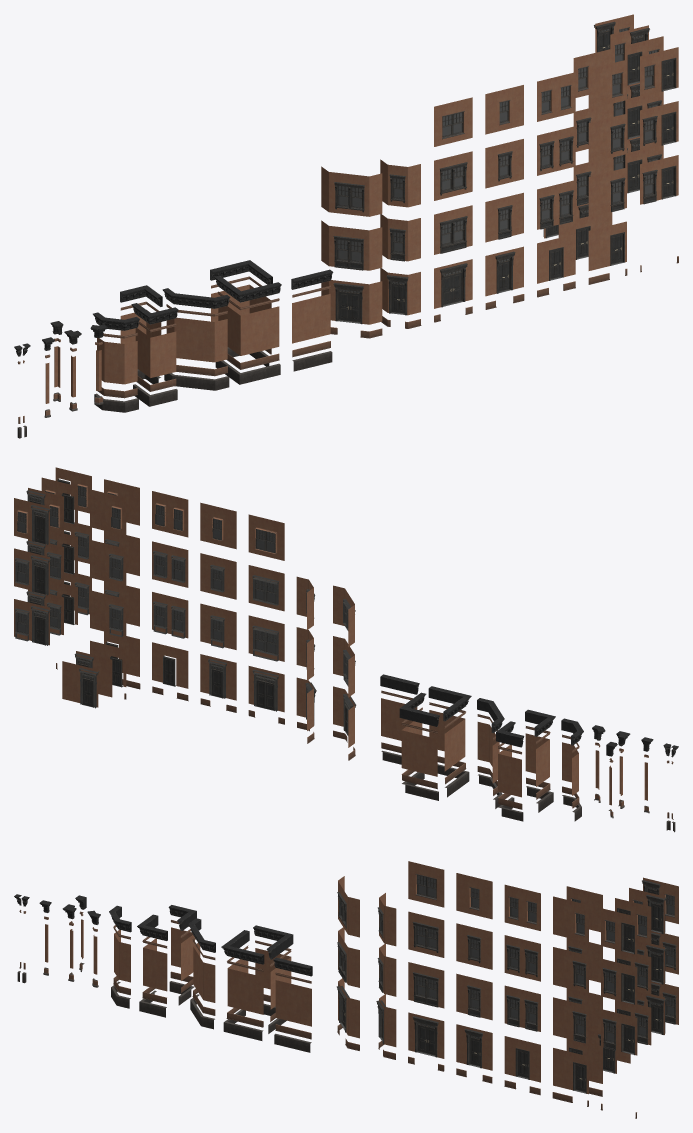
File: modular-urban-apartments-facade.glb
3 renders of one model, top to bottom at view 1: azimuth 30°, elevation 25°; view 2: azimuth 150°, elevation 25°; view 3: azimuth 330°, elevation 25°, orthographic. The views are drawn at different scales.
Visible parts, largest first — view 1: wall_standard_corner_large_01, wall_standard_angled_large_01, wall_window_angled_large_02, wall_window_angled_large_01, wall_standard_corner_small_01, wall_standard_standard_01, wall_standard_angled_small_01, wall_window_offset_small_05, wall_window_centered_small_03, wall_window_centered_small_02, wall_door_angled_large_01, wall_window_angled_small_02 (+38 smaller); view 2: wall_standard_corner_large_02, wall_standard_corner_large_01, wall_window_offset_small_06, wall_window_centered_small_03, wall_window_centered_small_02, wall_window_offset_small_04, wall_window_centered_small_01, wall_window_offset_small_02, wall_window_centered_double_03, wall_door_centered_small_02, wall_window_centered_large_03, door_window_small_04 (+38 smaller); view 3: wall_standard_corner_large_01, wall_standard_standard_01, wall_window_centered_small_03, wall_window_offset_small_05, wall_window_centered_small_02, wall_window_offset_small_03, wall_window_centered_small_01, wall_window_centered_double_03, wall_door_centered_small_02, wall_standard_corner_small_01, wall_window_offset_small_01, wall_window_centered_large_03 (+58 smaller).
Part boxes in pixels (x1,y1,x2,y2): wall_standard_corner_large_01: [218, 306, 279, 355]; wall_standard_angled_large_01: [166, 317, 227, 362]; wall_window_angled_large_02: [321, 166, 382, 216]; wall_window_angled_large_01: [321, 220, 382, 270]; wall_standard_corner_small_01: [135, 328, 176, 377]; wall_standard_standard_01: [292, 294, 330, 343]; wall_standard_angled_small_01: [97, 338, 137, 384]; wall_window_offset_small_05: [588, 59, 626, 109]; wall_window_centered_small_03: [485, 85, 523, 134]; wall_window_centered_small_02: [485, 139, 523, 188]; wall_door_angled_large_01: [321, 280, 382, 324]; wall_window_angled_small_02: [380, 159, 420, 207]; wall_standard_corner_large_02: [401, 721, 437, 776]; wall_standard_corner_large_01: [429, 710, 465, 771]; wall_window_offset_small_06: [90, 489, 126, 535]; wall_window_centered_small_03: [200, 502, 236, 549]; wall_window_centered_small_02: [200, 553, 236, 599]; wall_window_offset_small_04: [90, 540, 126, 586]; wall_window_centered_small_01: [200, 603, 236, 649]; wall_window_offset_small_02: [90, 590, 126, 636]; wall_window_centered_double_03: [152, 491, 188, 537]; wall_door_centered_small_02: [152, 642, 188, 688]; wall_window_centered_large_03: [248, 514, 284, 560]; door_window_small_04: [14, 605, 51, 645]; wall_standard_corner_large_01: [227, 959, 263, 1014]; wall_standard_standard_01: [275, 980, 311, 1026]; wall_window_centered_small_03: [456, 873, 492, 919]; wall_window_offset_small_05: [553, 896, 588, 942]; wall_window_centered_small_02: [456, 923, 492, 969]; wall_window_offset_small_03: [553, 947, 588, 993]; wall_window_centered_small_01: [456, 973, 492, 1020]; wall_window_centered_double_03: [504, 884, 540, 930]; wall_door_centered_small_02: [504, 1036, 540, 1082]; wall_standard_corner_small_01: [143, 938, 167, 991]; wall_window_offset_small_01: [553, 997, 588, 1043]; wall_window_centered_large_03: [408, 861, 444, 907].
Bounding box in the file's own units: 51.53 × 17 × 6.67.
Materials: 5 (5 with a texture image).
